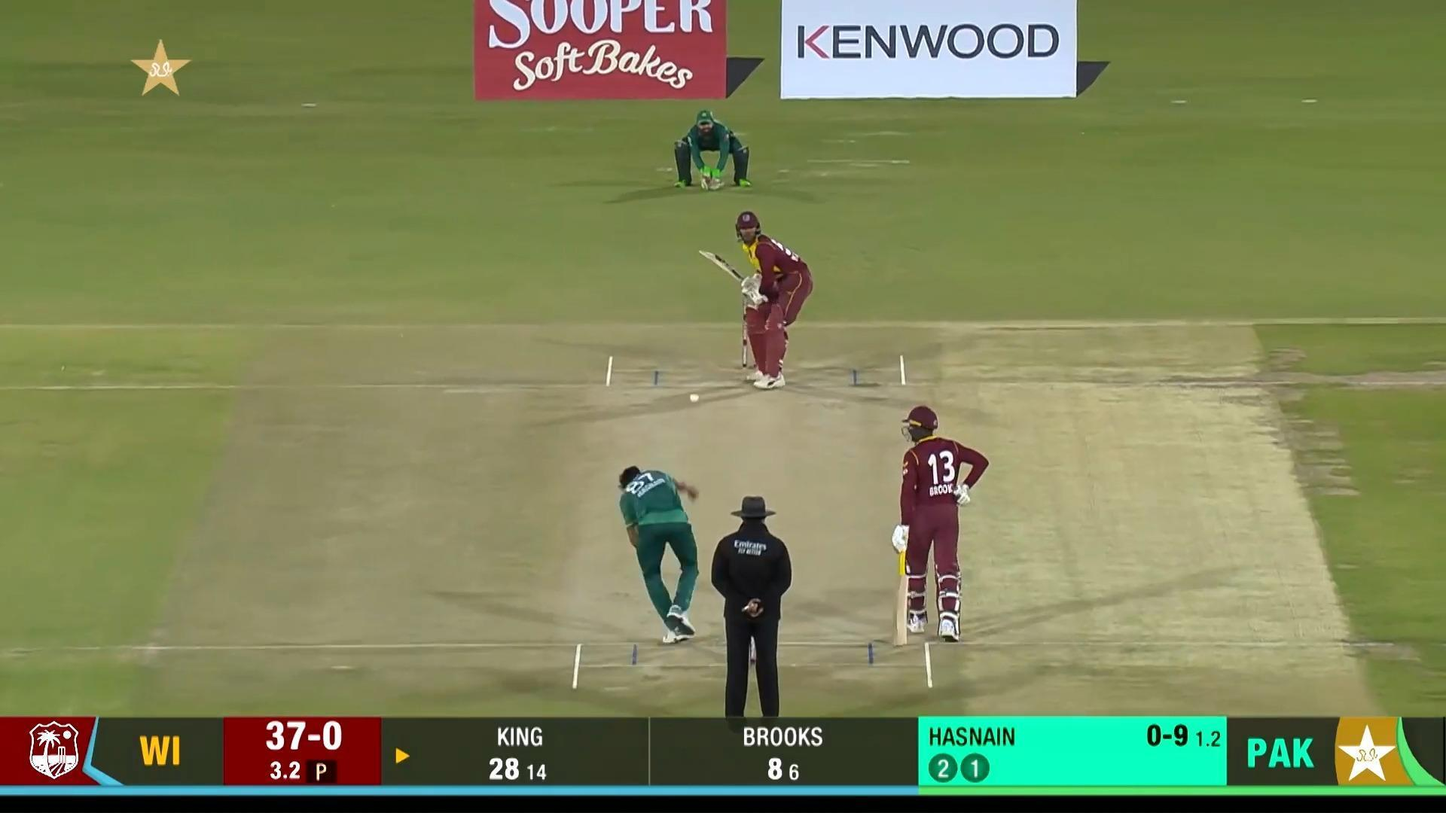BM 1: (699, 211, 813, 390)
BO: (619, 465, 700, 643)
